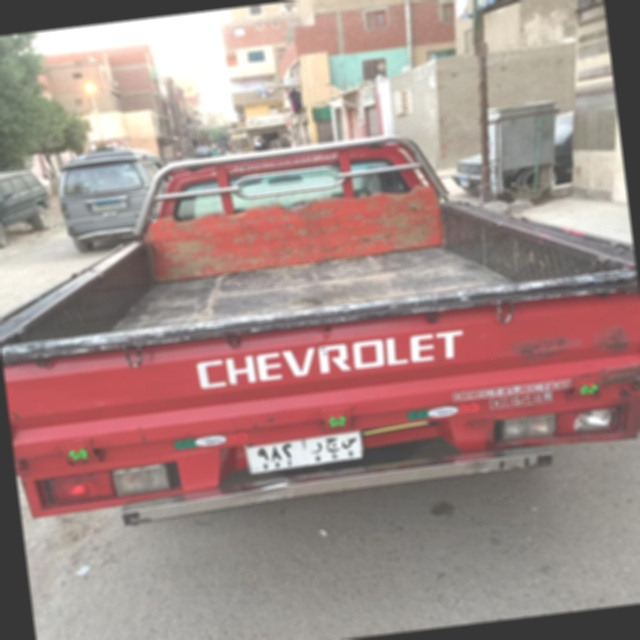License Plate: (239, 425, 370, 477)
